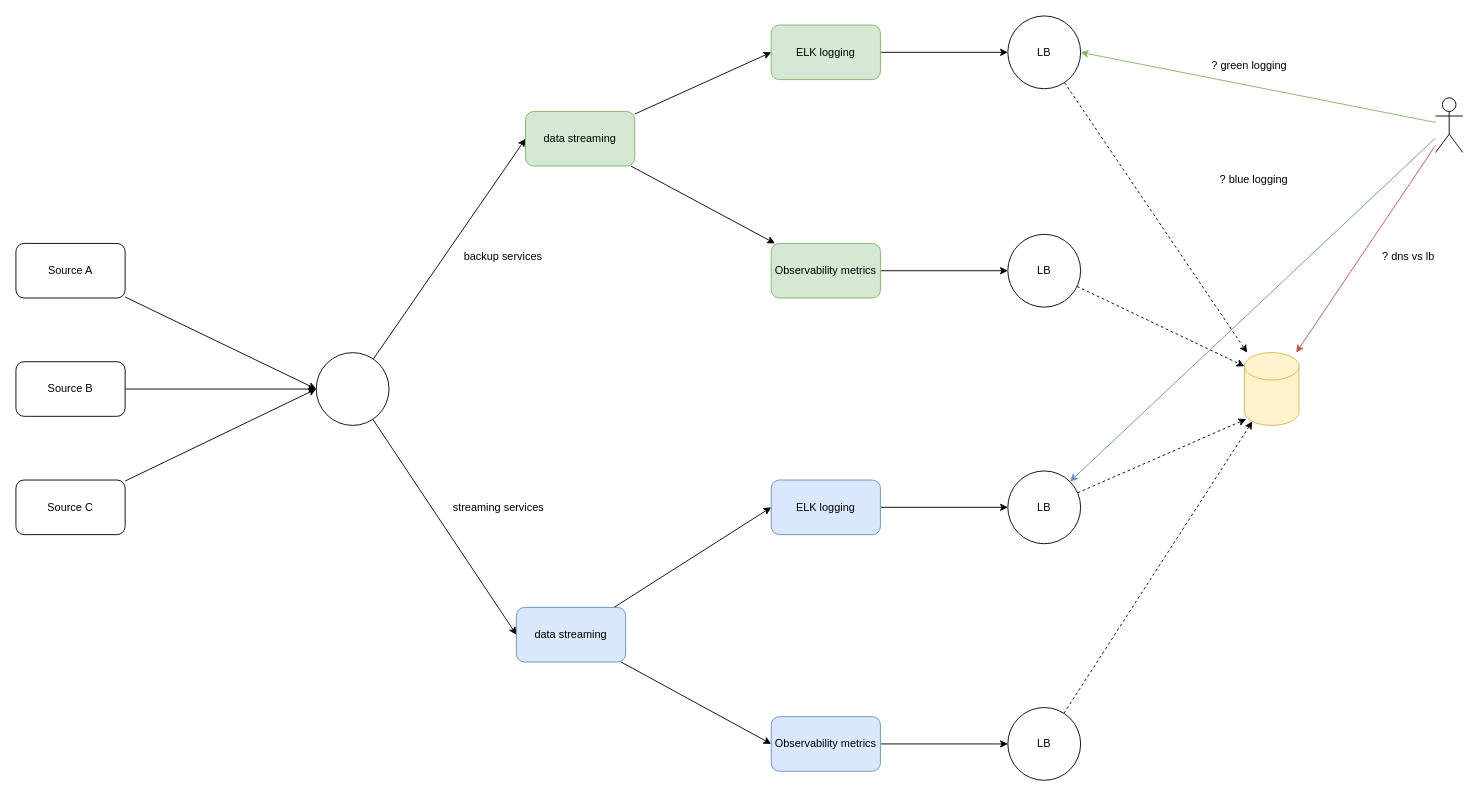
Some shapes in this 1479 by 796 pixel diagram are drawn without their labels. The box of each missing label's shape, as (x1, y1, x2, y2) in pixels:
DNS: (1244, 352, 1299, 425)
Kafka: (315, 352, 389, 425)
